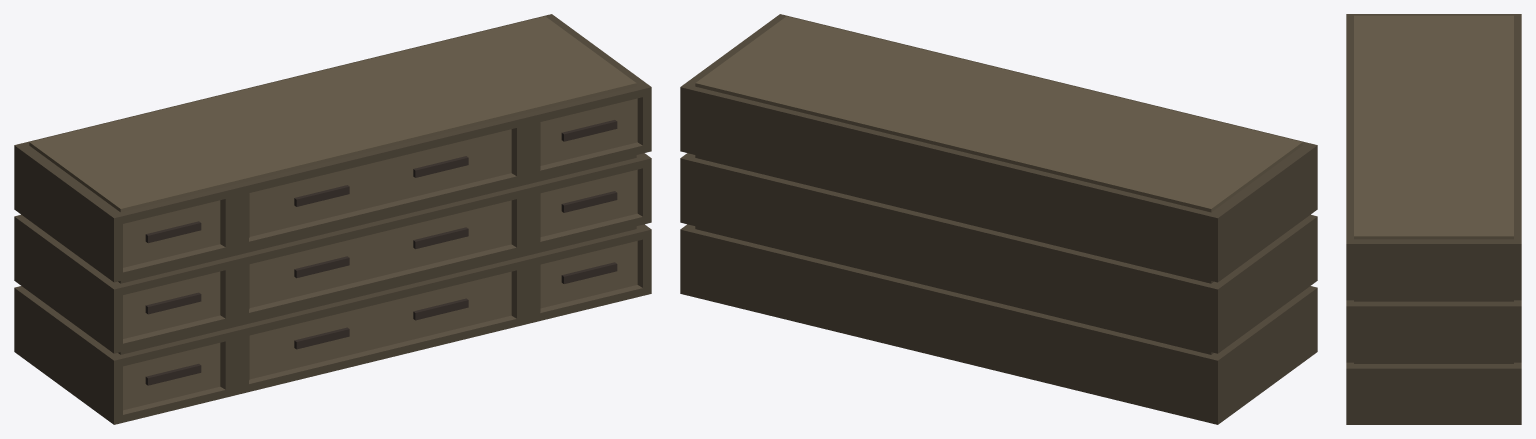
The model's file is Drawer_3.glb.
3 views of the same model, side by side, from view 1: azimuth 30°, elevation 25°; view 2: azimuth 150°, elevation 25°; view 3: azimuth 270°, elevation 25° (orthographic). The views are drawn at different scales.
Visible parts, largest first — view 1: Drawer_3; view 2: Drawer_3; view 3: Drawer_3.
Part boxes in pixels (box(x1,y1,x2,y2)): Drawer_3: box(14, 14, 651, 424); Drawer_3: box(680, 14, 1317, 424); Drawer_3: box(1346, 14, 1521, 424).
Bounding box in the file's own units: 2.03 × 0.7712 × 0.6535.
Materials: 3 (3 with a texture image).
